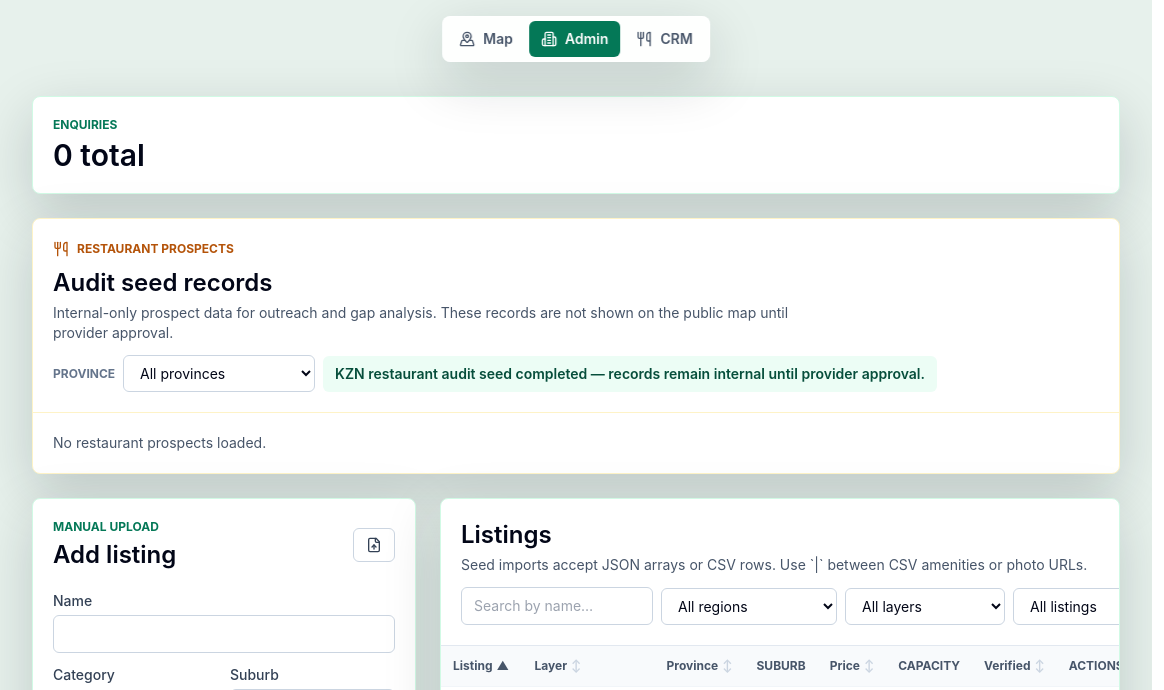
Test: empty state message renders when selected region has no listings
Select "Western Cape" in the 1st dropdown named "Region" at point(749, 606), box [661,588,837,624]
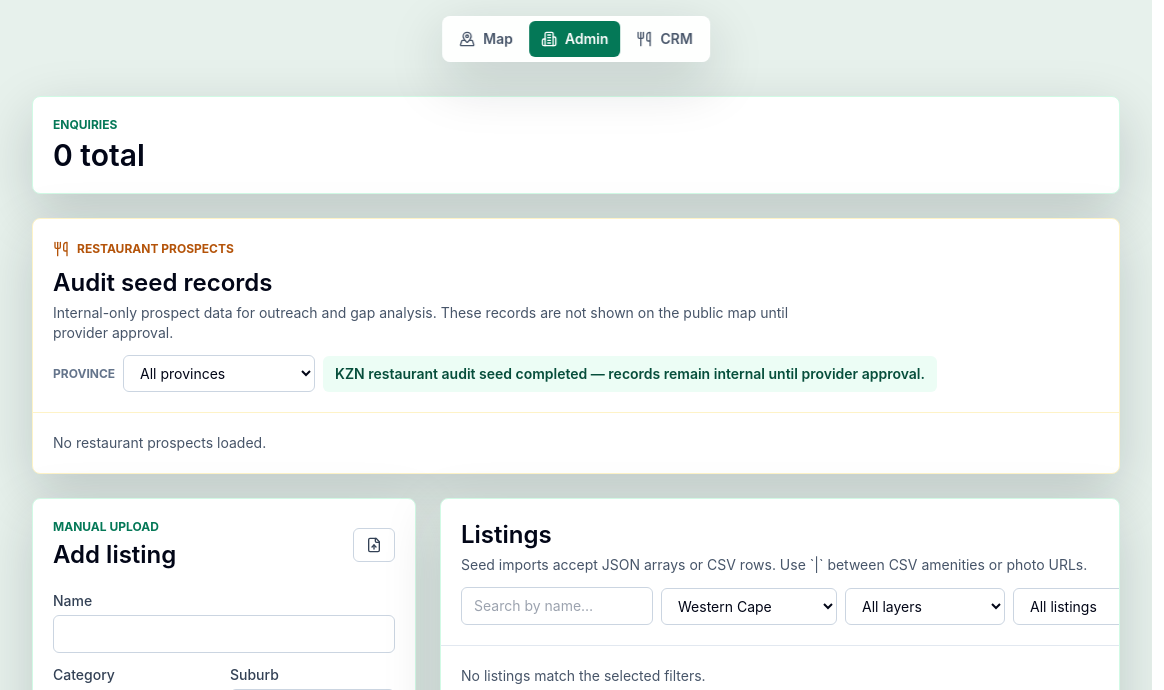
expect the text "No listings match the selected filters." is shown: met, box [461,667,706,684]
